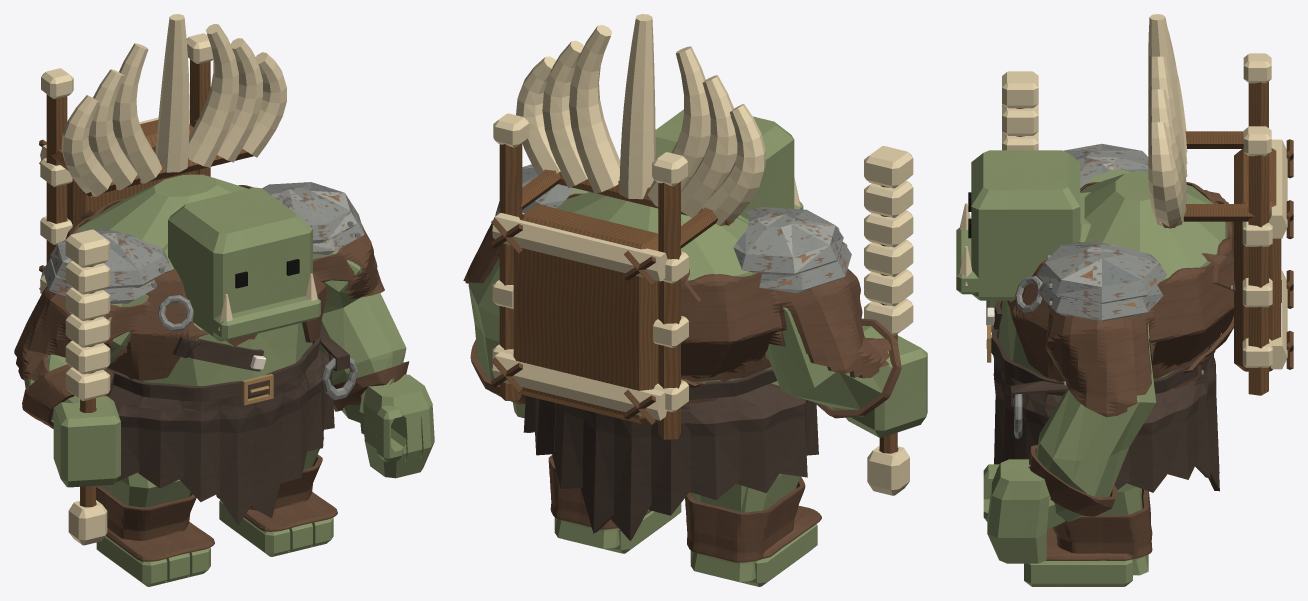
The model's file is host_20.glb.
The picture shows the model from 3 angles, left to right: view 1: azimuth 30°, elevation 25°; view 2: azimuth 150°, elevation 25°; view 3: azimuth 270°, elevation 25°; orthographic projection. The views are drawn at different scales.
Visible parts, largest first — view 1: Body — continuous source torso, four joints and planted legs, Clothing — broad source ragged leather skirt, Head — complete continuous skull and neck, Source Patriarch — actual closed ragged brown mantle and bod, Hand — LEFT connected source fist and wrist, Source throne — one actual joined wood panel posts cross arm, Hand — RIGHT source compact planar grasp, Source ankle — true fitted leather wrap 1, Crown — thick curved blunt mammoth rib 3, Crown — thick curved blunt mammoth rib 2, Crown — thick curved blunt mammoth rib 4, Shoulder — 1 overlapping tier 1 (+29 smaller); view 2: Source throne — one actual joined wood panel posts cross arm, Clothing — broad source ragged leather skirt, Body — continuous source torso, four joints and planted legs, Source Patriarch — actual closed ragged brown mantle and bod, Source ankle — true fitted leather wrap 1, Shoulder — 1 overlapping tier 1, Crown — thick curved blunt mammoth rib 3, Crown — thick curved blunt mammoth rib 2, Source throne — broad actual ivory rail 0.94, Source throne — broad actual ivory rail 0.53, Head — complete continuous skull and neck, Crown — thick curved blunt mammoth rib 5 (+21 smaller); view 3: Body — continuous source torso, four joints and planted legs, Source Patriarch — actual closed ragged brown mantle and bod, Head — complete continuous skull and neck, Clothing — broad source ragged leather skirt, Source throne — one actual joined wood panel posts cross arm, Hand — LEFT connected source fist and wrist, Shoulder — -1 overlapping tier 1, Source ankle — true fitted leather wrap -1, Crown — thick curved blunt mammoth rib 0, Shoulder — -1 overlapping tier 2, Shoulder — 1 overlapping tier 1, Cuff — LEFT source wrist exterior (+19 smaller).
Part boxes in pixels (x1=…): Body — continuous source torso, four joints and planted legs: x1=24, y1=174, x2=406, y2=586; Clothing — broad source ragged leather skirt: x1=109, y1=349, x2=334, y2=525; Head — complete continuous skull and neck: x1=168, y1=187, x2=312, y2=341; Source Patriarch — actual closed ragged brown mantle and bod: x1=14, y1=185, x2=384, y2=381; Hand — LEFT connected source fist and wrist: x1=359, y1=374, x2=434, y2=478; Source throne — one actual joined wood panel posts cross arm: x1=46, y1=59, x2=253, y2=263; Hand — RIGHT source compact planar grasp: x1=53, y1=396, x2=120, y2=487; Source ankle — true fitted leather wrap 1: x1=96, y1=485, x2=214, y2=561; Crown — thick curved blunt mammoth rib 3: x1=155, y1=14, x2=189, y2=172; Crown — thick curved blunt mammoth rib 2: x1=188, y1=24, x2=238, y2=167; Crown — thick curved blunt mammoth rib 4: x1=112, y1=43, x2=161, y2=183; Shoulder — 1 overlapping tier 1: x1=50, y1=228, x2=171, y2=288; Source throne — one actual joined wood panel posts cross arm: x1=499, y1=143, x2=734, y2=439; Clothing — broad source ragged leather skirt: x1=523, y1=383, x2=818, y2=540; Body — continuous source torso, four joints and planted legs: x1=468, y1=188, x2=892, y2=586; Source Patriarch — actual closed ragged brown mantle and bod: x1=463, y1=193, x2=891, y2=382; Source ankle — true fitted leather wrap 1: x1=685, y1=476, x2=821, y2=562; Shoulder — 1 overlapping tier 1: x1=733, y1=207, x2=843, y2=275; Crown — thick curved blunt mammoth rib 3: x1=619, y1=14, x2=655, y2=199; Crown — thick curved blunt mammoth rib 2: x1=569, y1=25, x2=620, y2=193; Source throne — broad actual ivory rail 0.94: x1=492, y1=213, x2=667, y2=281; Source throne — broad actual ivory rail 0.53: x1=492, y1=351, x2=666, y2=420; Head — complete continuous skull and neck: x1=655, y1=109, x2=794, y2=218; Crown — thick curved blunt mammoth rib 5: x1=681, y1=75, x2=737, y2=217; Body — continuous source torso, four joints and planted legs: x1=998, y1=169, x2=1227, y2=586; Source Patriarch — actual closed ragged brown mantle and bod: x1=1007, y1=179, x2=1234, y2=417; Head — complete continuous skull and neck: x1=971, y1=150, x2=1080, y2=300; Clothing — broad source ragged leather skirt: x1=993, y1=354, x2=1219, y2=492; Source throne — one actual joined wood panel posts cross arm: x1=1161, y1=81, x2=1281, y2=395; Hand — LEFT connected source fist and wrist: x1=983, y1=459, x2=1065, y2=563; Shoulder — -1 overlapping tier 1: x1=1037, y1=242, x2=1166, y2=303; Source ankle — true fitted leather wrap -1: x1=1045, y1=489, x2=1152, y2=560; Crown — thick curved blunt mammoth rib 0: x1=1148, y1=122, x2=1186, y2=228; Shoulder — -1 overlapping tier 2: x1=1037, y1=282, x2=1163, y2=321; Shoulder — 1 overlapping tier 1: x1=1063, y1=143, x2=1148, y2=186; Cuff — LEFT source wrist exterior: x1=1029, y1=445, x2=1116, y2=516.
Bounding box in the file's own units: 5.37 × 6.78 × 3.95.
14 materials, 13 textured.
